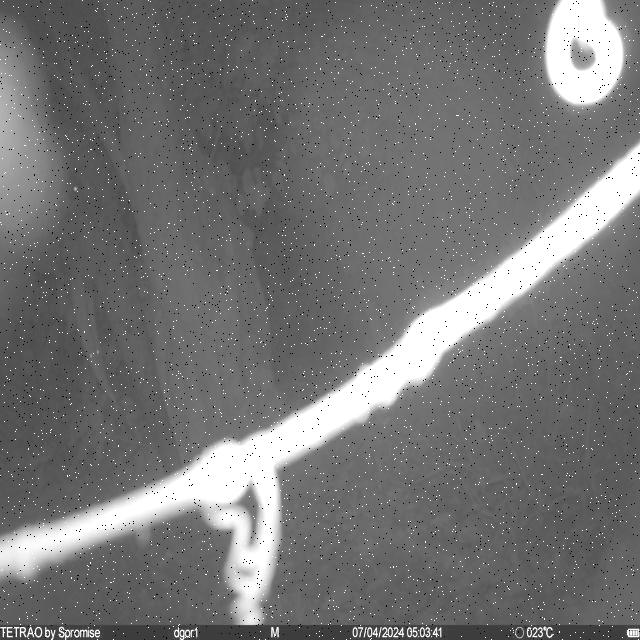elephant: (2, 77, 185, 474)
tusk: (72, 276, 122, 408)
